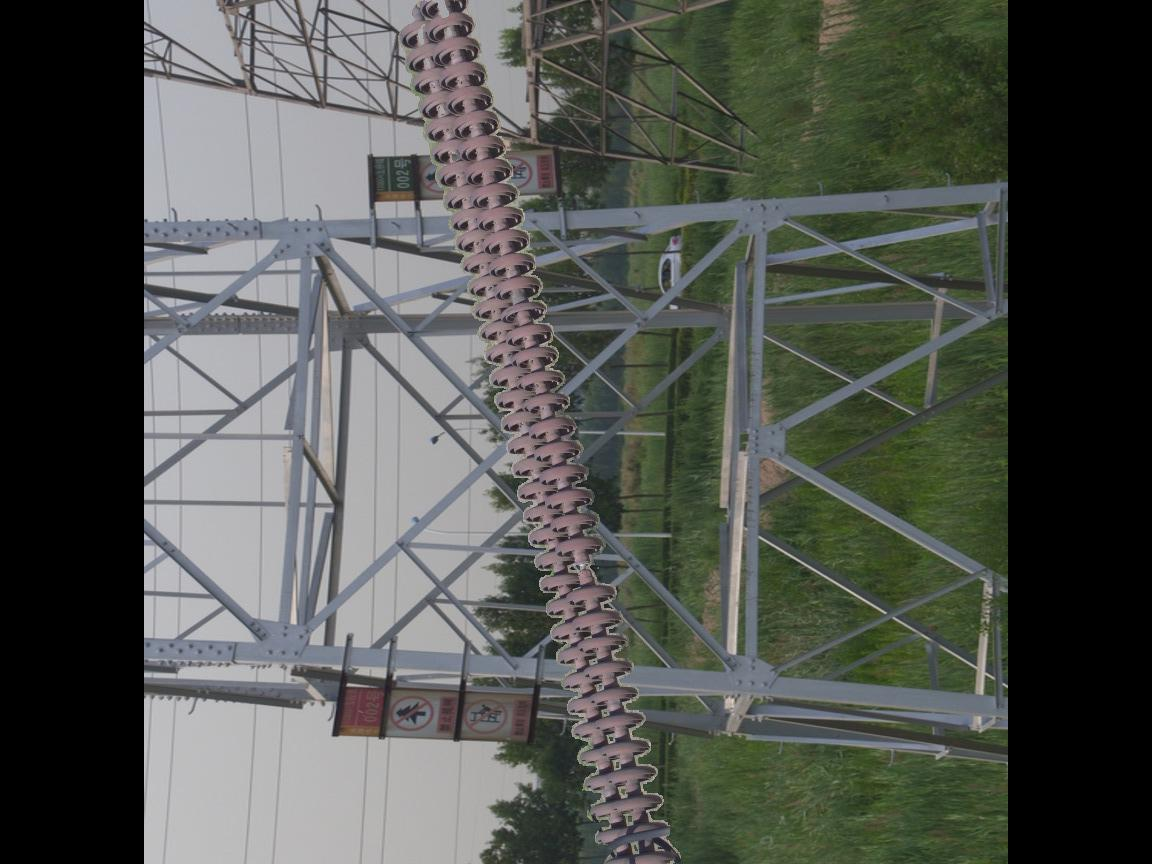insulator: (392, 14, 682, 864)
insulator_stringdrop: (552, 531, 621, 606)
